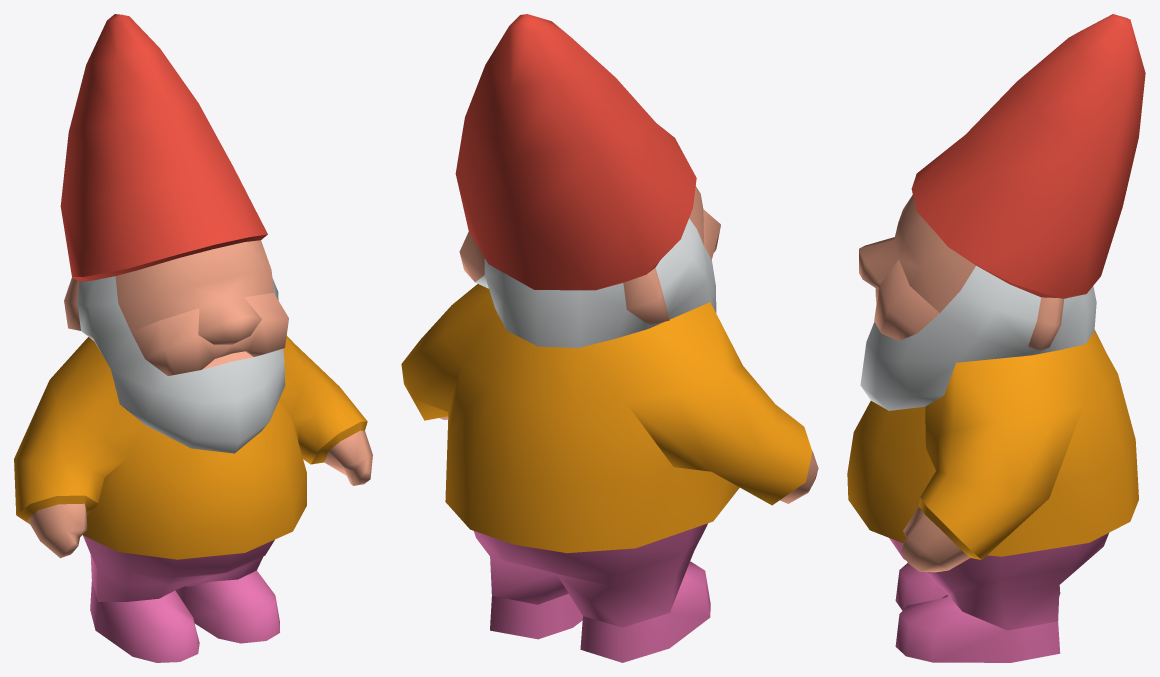
The model's file is gnome01_s03.FBX.
3 renders of one model, left to right at view 1: azimuth 30°, elevation 25°; view 2: azimuth 150°, elevation 25°; view 3: azimuth 270°, elevation 25°, orthographic. The views are drawn at different scales.
Visible parts, largest first — view 1: gnome01_s03; view 2: gnome01_s03; view 3: gnome01_s03.
Boxes of the visible parts, x1,y1,x2,y2 form: gnome01_s03: (14, 14, 372, 662); gnome01_s03: (401, 14, 818, 662); gnome01_s03: (847, 14, 1145, 662).
Size of the model in its own units: 109 by 75.01 by 169.
Materials: 1 (1 with a texture image).
